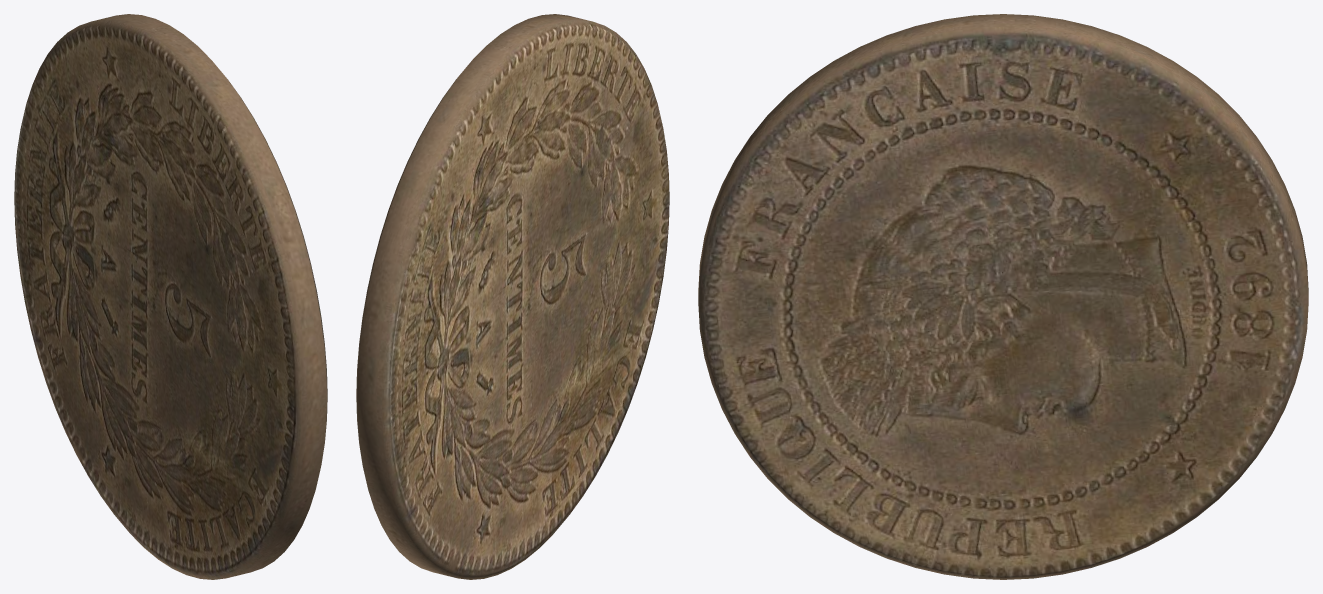
The model's file is 5_Santim.obj.
The picture shows the model from 3 angles, left to right: view 1: azimuth 30°, elevation 25°; view 2: azimuth 150°, elevation 25°; view 3: azimuth 270°, elevation 25°; orthographic projection. The views are drawn at different scales.
Visible parts, largest first — view 1: 5_Santim; view 2: 5_Santim; view 3: 5_Santim.
Part boxes in pixels (x1,y1,x2,y2): 5_Santim: [14, 14, 327, 579]; 5_Santim: [356, 14, 669, 579]; 5_Santim: [698, 14, 1308, 579].
Bounding box in the file's own units: 0.0015 × 0.0226 × 0.0226.
